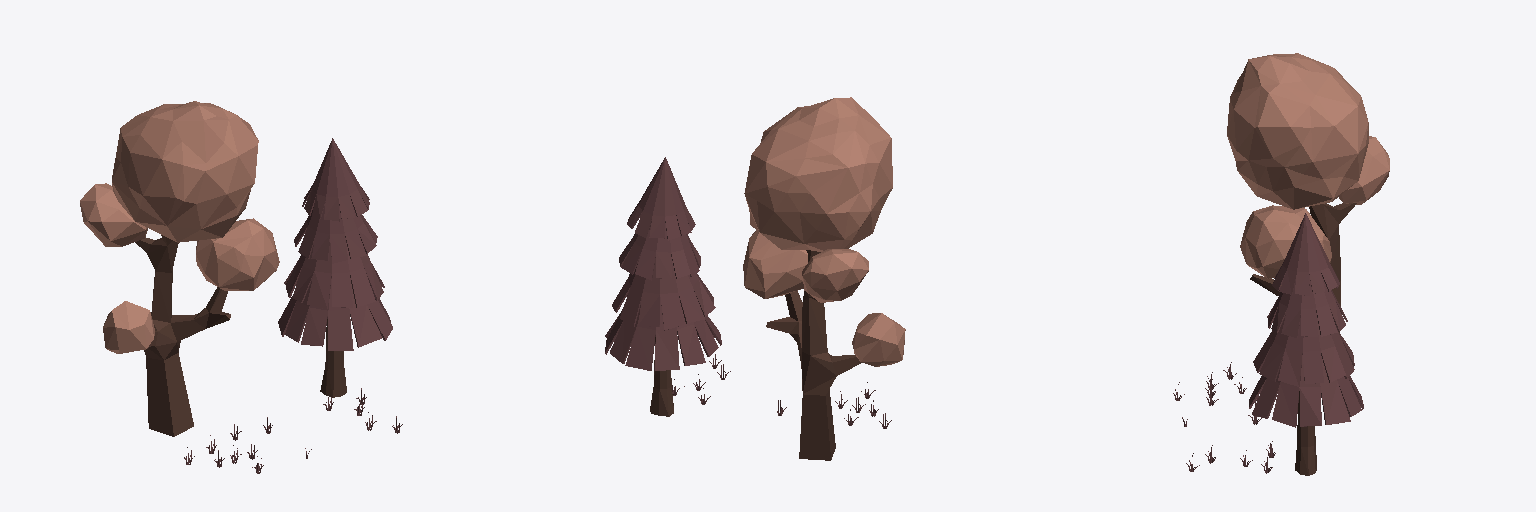
File: tree2.obj
The picture shows the model from 3 angles: view 1: azimuth 30°, elevation 25°; view 2: azimuth 150°, elevation 25°; view 3: azimuth 270°, elevation 25°; orthographic projection.
Parts seen in each view (by area): view 1: Tree1_NaturePack, NaturePack_Tree2, trunk2, trunk1; view 2: Tree1_NaturePack, NaturePack_Tree2, trunk2, trunk1; view 3: Tree1_NaturePack, NaturePack_Tree2, trunk2, trunk1.
Boxes of the visible parts, x1,y1,x2,y2 form: Tree1_NaturePack: [80, 101, 279, 353]; NaturePack_Tree2: [278, 138, 392, 350]; trunk2: [135, 235, 230, 436]; trunk1: [320, 319, 346, 397]; Tree1_NaturePack: [743, 97, 905, 366]; NaturePack_Tree2: [605, 157, 721, 370]; trunk2: [766, 250, 861, 460]; trunk1: [650, 337, 673, 416]; Tree1_NaturePack: [1227, 53, 1389, 278]; NaturePack_Tree2: [1249, 213, 1363, 427]; trunk2: [1250, 203, 1356, 332]; trunk1: [1295, 391, 1316, 475].
Size of the model in its own units: 18.92 by 21.53 by 12.68.